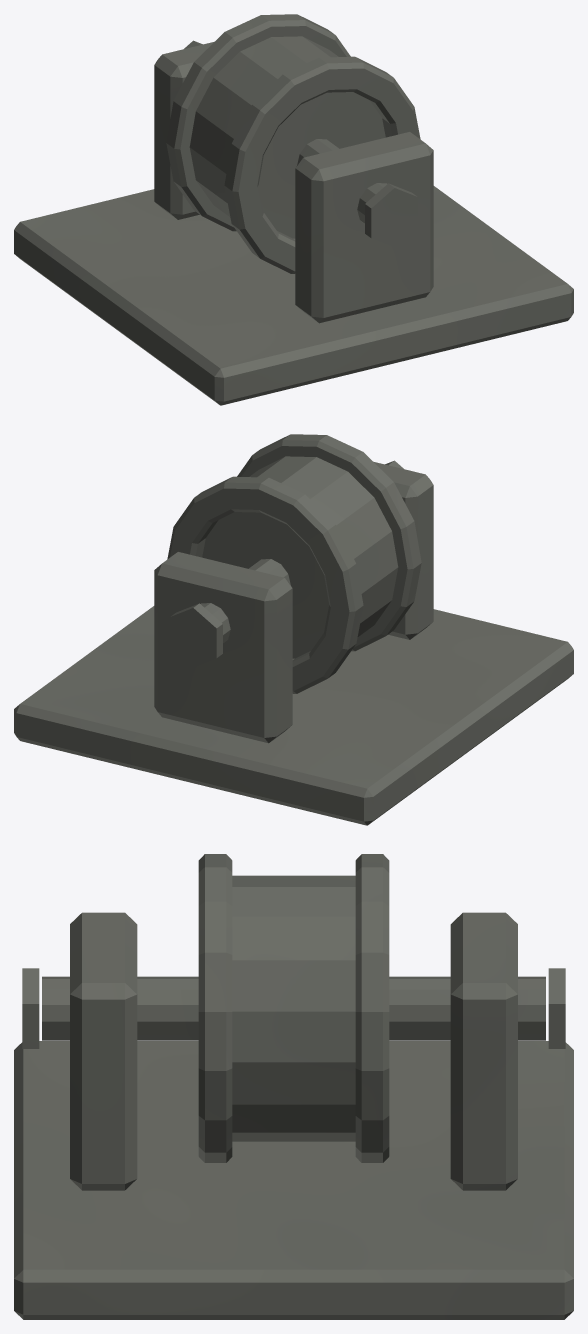
File: WarrensC_CCS28_ChainCornerGuide_Mars_SM.fbx
The picture shows the model from 3 angles, top to bottom: view 1: azimuth 30°, elevation 25°; view 2: azimuth 150°, elevation 25°; view 3: azimuth 270°, elevation 25°; orthographic projection. The views are drawn at different scales.
Parts seen in each view (by area): view 1: WarrensC_CCS28_ChainCornerGuide_Mars_SM.001; view 2: WarrensC_CCS28_ChainCornerGuide_Mars_SM.001; view 3: WarrensC_CCS28_ChainCornerGuide_Mars_SM.001.
Part boxes in pixels (left/top/right/bottom): WarrensC_CCS28_ChainCornerGuide_Mars_SM.001: left=14, top=14, right=573, bottom=405; WarrensC_CCS28_ChainCornerGuide_Mars_SM.001: left=14, top=434, right=573, bottom=825; WarrensC_CCS28_ChainCornerGuide_Mars_SM.001: left=14, top=854, right=573, bottom=1319.
Size of the model in its own units: 60 by 60 by 40.
